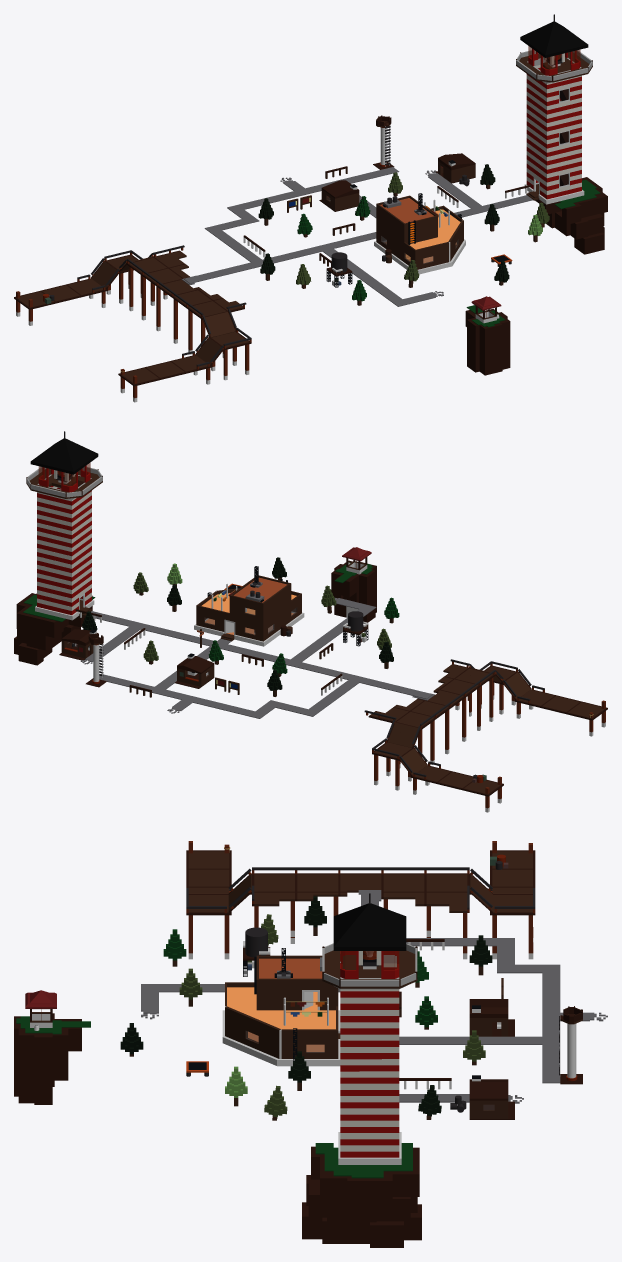
Rendered from map_2.obj.
3 renders of one model, top to bottom at view 1: azimuth 30°, elevation 25°; view 2: azimuth 150°, elevation 25°; view 3: azimuth 270°, elevation 25°, orthographic. The views are drawn at different scales.
Visible parts, largest first — view 1: Part268, Part267, Part619, Part960, Part771; view 2: Part775, Part267, Part976; view 3: Part288, Part691, Part785, Part269, Part1086, Part1064, Part784, Part779, Part630, Part776, Part775, Part354 (+9 smaller).
Boxes of the visible parts, x1,y1,x2,y2 form: Part268: (479, 323, 502, 375); Part267: (467, 318, 479, 372); Part619: (405, 215, 437, 243); Part960: (533, 21, 566, 55); Part771: (577, 189, 607, 218); Part775: (16, 606, 63, 637); Part267: (359, 570, 375, 622); Part976: (52, 438, 85, 471); Part288: (34, 1033, 52, 1104); Part691: (259, 978, 301, 1010); Part785: (347, 1171, 392, 1203); Part269: (18, 1028, 34, 1103); Part1086: (370, 903, 406, 946); Part1064: (333, 904, 369, 946); Part784: (322, 1217, 369, 1243); Part779: (327, 1200, 376, 1222); Part630: (225, 1006, 280, 1044); Part776: (370, 1221, 403, 1247); Part775: (392, 1147, 419, 1196); Part354: (52, 1028, 68, 1080).
Size of the model in its own units: 388 by 159 by 262.
